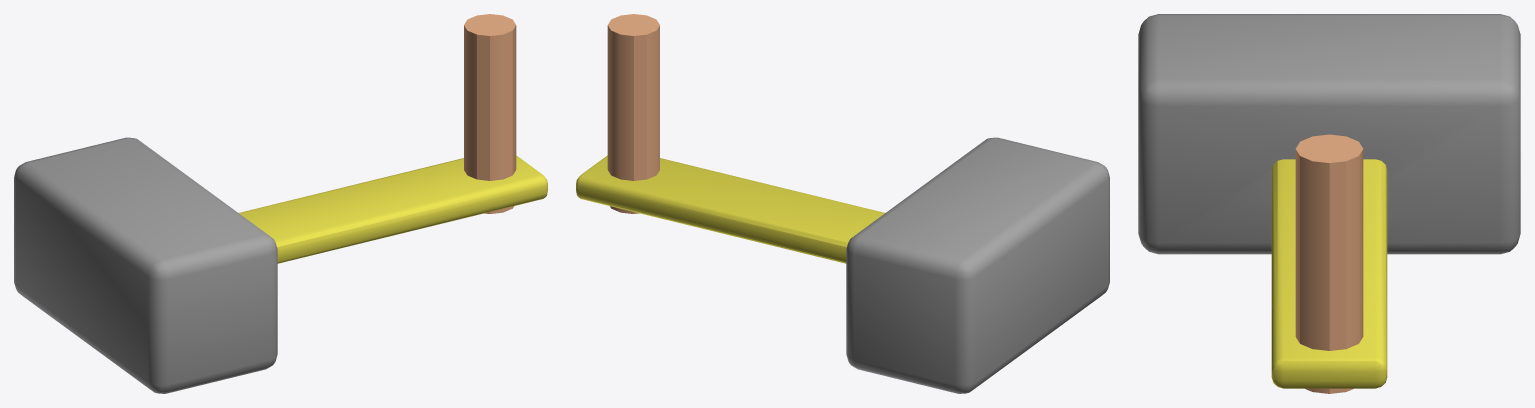
File: hummer.fbx
3 renders of one model, left to right at view 1: azimuth 30°, elevation 25°; view 2: azimuth 150°, elevation 25°; view 3: azimuth 270°, elevation 25°, orthographic. The views are drawn at different scales.
Parts seen in each view (by area): view 1: Куб; view 2: Куб; view 3: Куб.
Boxes of the visible parts, <box> form: Куб: <box>14,14,547,393</box>; Куб: <box>576,14,1109,393</box>; Куб: <box>1138,14,1520,393</box>.
Bounding box in the file's own units: 4 × 7 × 3.35.
